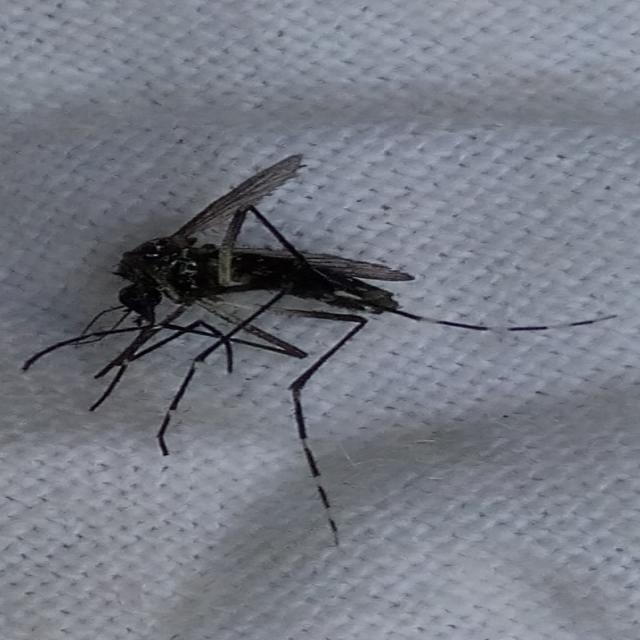albopictus: (24, 146, 551, 534)
